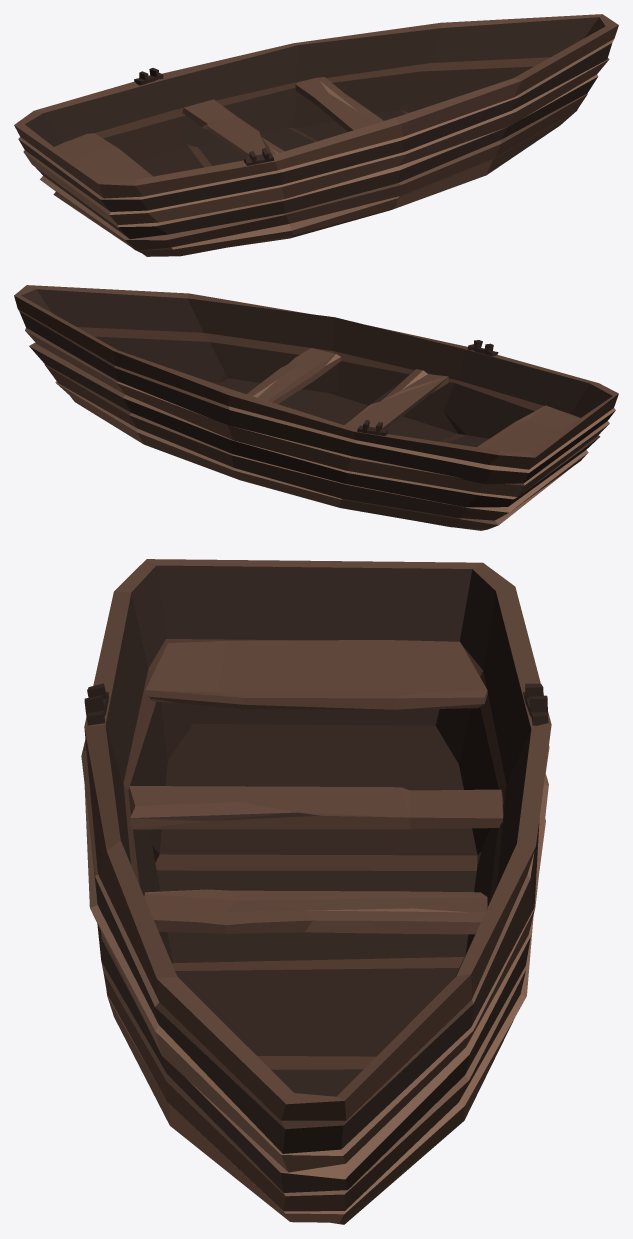
File: Boat_01.glb
The picture shows the model from 3 angles, top to bottom: view 1: azimuth 30°, elevation 25°; view 2: azimuth 150°, elevation 25°; view 3: azimuth 270°, elevation 25°; orthographic projection. The views are drawn at different scales.
Parts seen in each view (by area): view 1: Boat_01; view 2: Boat_01; view 3: Boat_01.
Boxes of the visible parts, box(x1,y1,x2,y2) form: Boat_01: box(14, 14, 618, 256); Boat_01: box(14, 285, 618, 530); Boat_01: box(81, 559, 551, 1224).
Size of what is drawn, in the model's own units: 5.66 by 0.9675 by 2.07.
Materials: 1 (1 with a texture image).
